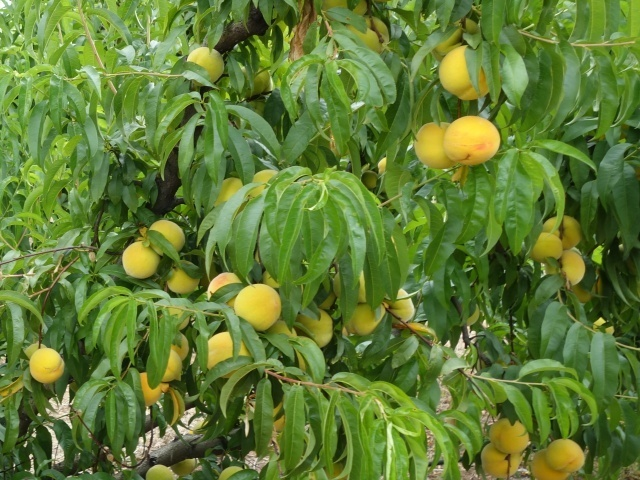peach: (438, 42, 500, 105), (442, 112, 505, 170), (410, 115, 466, 172), (235, 278, 284, 333), (198, 327, 255, 371), (486, 411, 536, 458), (476, 438, 531, 479), (352, 9, 395, 55), (118, 238, 167, 278), (295, 305, 340, 348), (544, 243, 588, 286), (342, 302, 391, 340), (545, 431, 587, 475), (205, 264, 248, 306), (383, 287, 424, 331), (184, 43, 225, 84), (28, 345, 67, 387), (146, 215, 189, 253), (246, 164, 286, 204), (164, 257, 203, 296), (213, 172, 251, 211), (544, 211, 584, 248), (238, 64, 275, 99), (529, 231, 568, 264), (153, 350, 187, 384), (529, 446, 564, 479), (136, 370, 168, 406), (165, 331, 192, 362), (169, 455, 200, 478), (143, 460, 180, 479), (218, 461, 248, 479)
